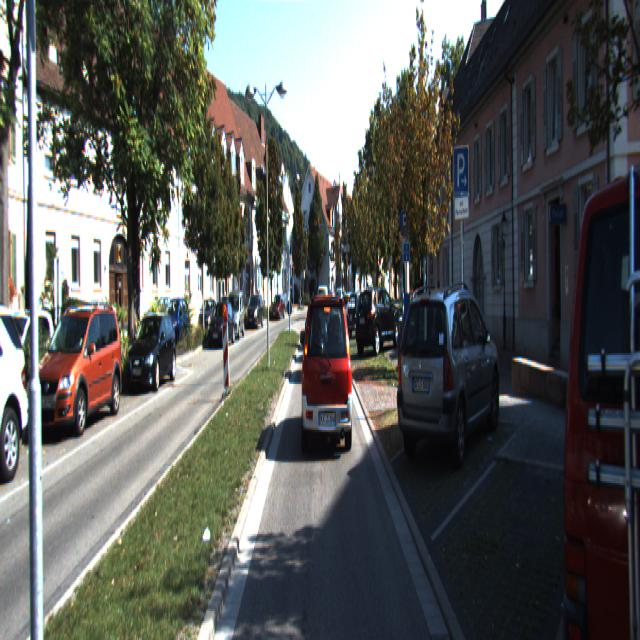Car: (548, 135, 640, 638), (396, 286, 504, 472), (32, 304, 126, 437), (302, 295, 354, 459), (0, 309, 56, 415), (0, 305, 33, 483), (125, 316, 178, 392), (354, 286, 401, 354), (344, 292, 376, 340), (160, 298, 190, 347), (208, 301, 236, 348), (338, 292, 367, 329), (225, 290, 245, 341), (246, 294, 265, 330), (269, 295, 287, 321)
